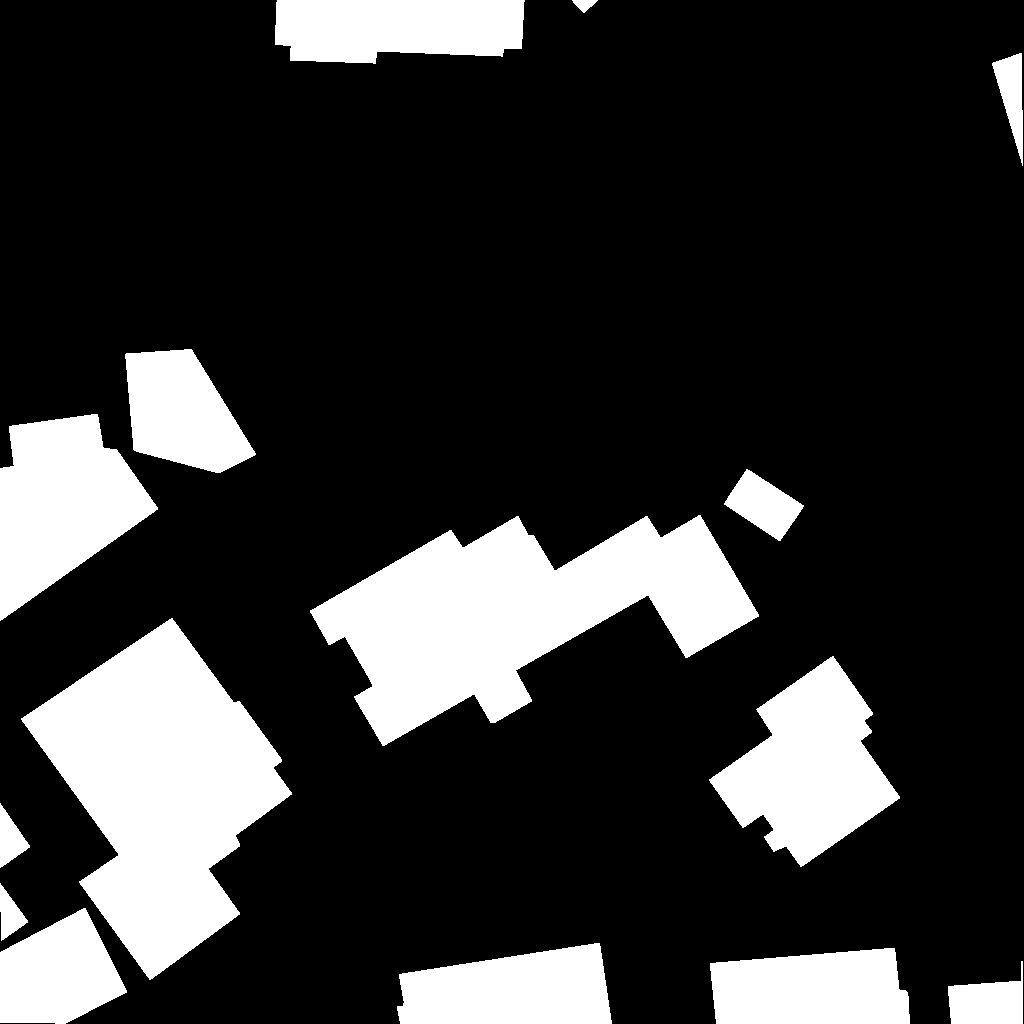building: (310, 515, 760, 747), (21, 618, 293, 981), (709, 656, 901, 868), (0, 414, 159, 622), (397, 943, 613, 1024), (125, 348, 257, 474), (275, 0, 525, 64), (710, 948, 911, 1024), (0, 908, 128, 1024), (724, 469, 805, 542), (948, 961, 1024, 1024), (0, 803, 31, 942), (992, 53, 1024, 168), (571, 0, 599, 14)
